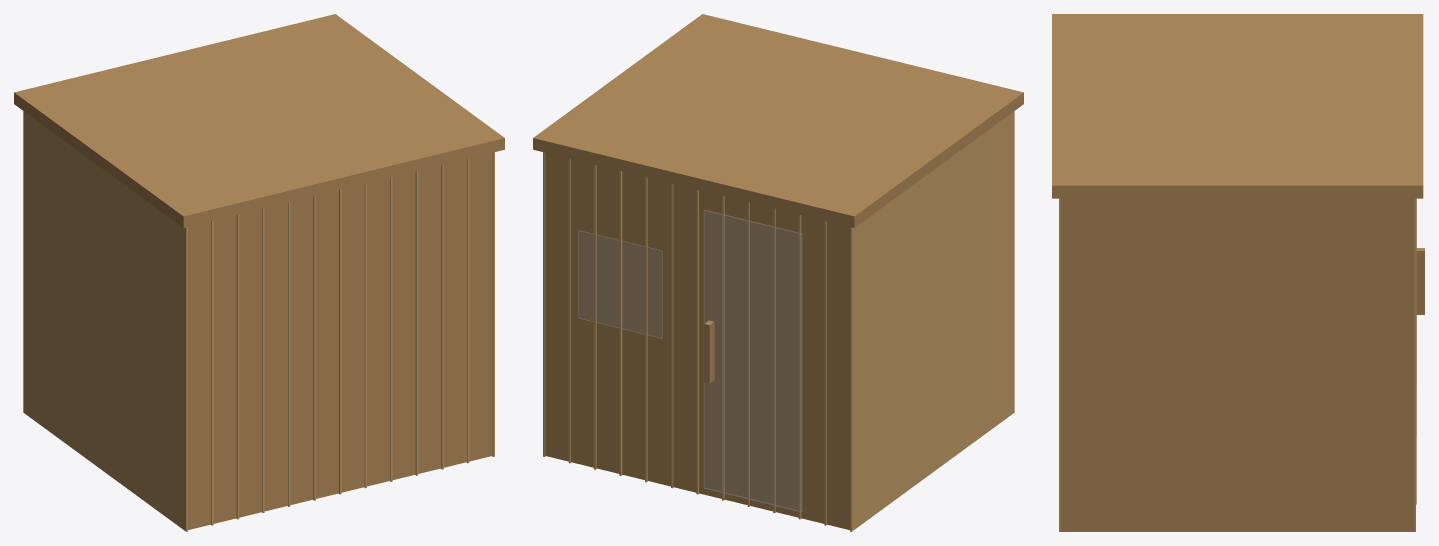
File: home.lodge.sauna.glb
The picture shows the model from 3 angles, left to right: view 1: azimuth 30°, elevation 25°; view 2: azimuth 150°, elevation 25°; view 3: azimuth 270°, elevation 25°; orthographic projection. The views are drawn at different scales.
Visible parts, largest first — view 1: main__softwood, main__glulam; view 2: main__softwood, main__glulam, main__glass; view 3: main__softwood, main__glulam.
Boxes of the visible parts, box(x1,y1,x2,y2) form: main__softwood: box(14, 14, 504, 529); main__glulam: box(23, 111, 494, 531); main__softwood: box(533, 14, 1023, 529); main__glulam: box(543, 111, 1014, 531); main__glass: box(578, 210, 802, 511); main__softwood: box(1052, 14, 1424, 531); main__glulam: box(1059, 198, 1416, 531).
Size of the model in its own units: 2.3 by 2.18 by 2.11.
